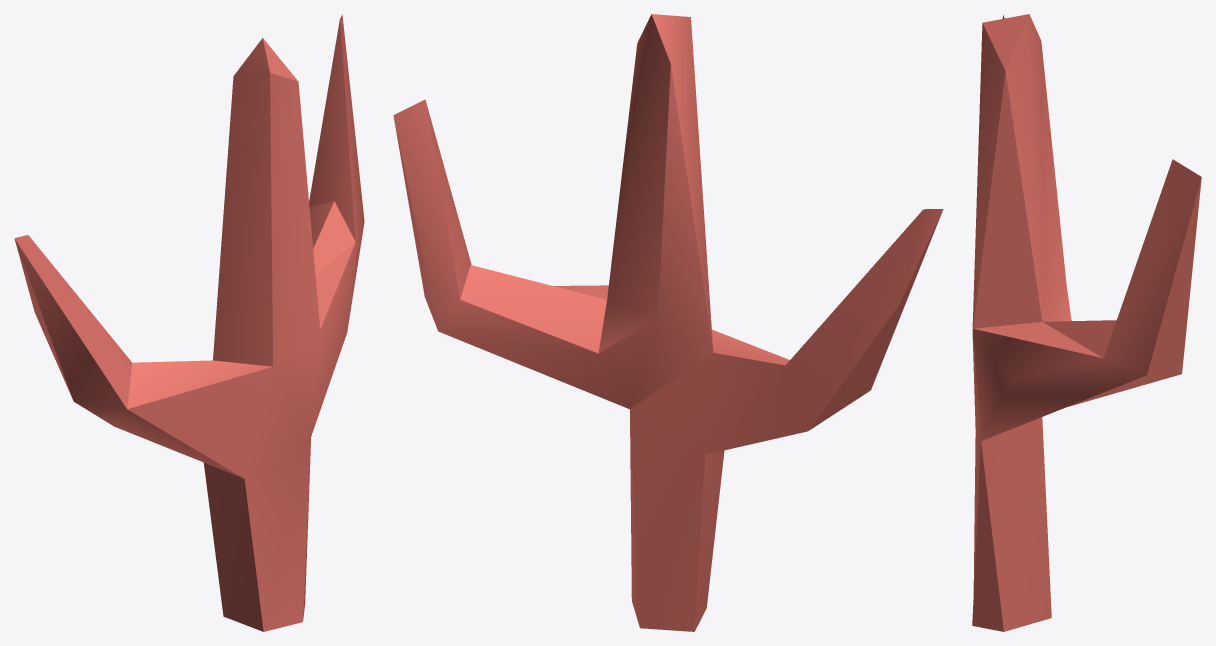
The model's file is Cactus_03.glb.
The picture shows the model from 3 angles, left to right: view 1: azimuth 30°, elevation 25°; view 2: azimuth 150°, elevation 25°; view 3: azimuth 270°, elevation 25°; orthographic projection. The views are drawn at different scales.
Parts seen in each view (by area): view 1: Cactus_03; view 2: Cactus_03; view 3: Cactus_03.
Part boxes in pixels (x1,y1,x2,y2): Cactus_03: (14, 14, 364, 631); Cactus_03: (393, 14, 943, 631); Cactus_03: (972, 14, 1201, 631).
Size of the model in its own units: 165 by 212 by 72.92.
